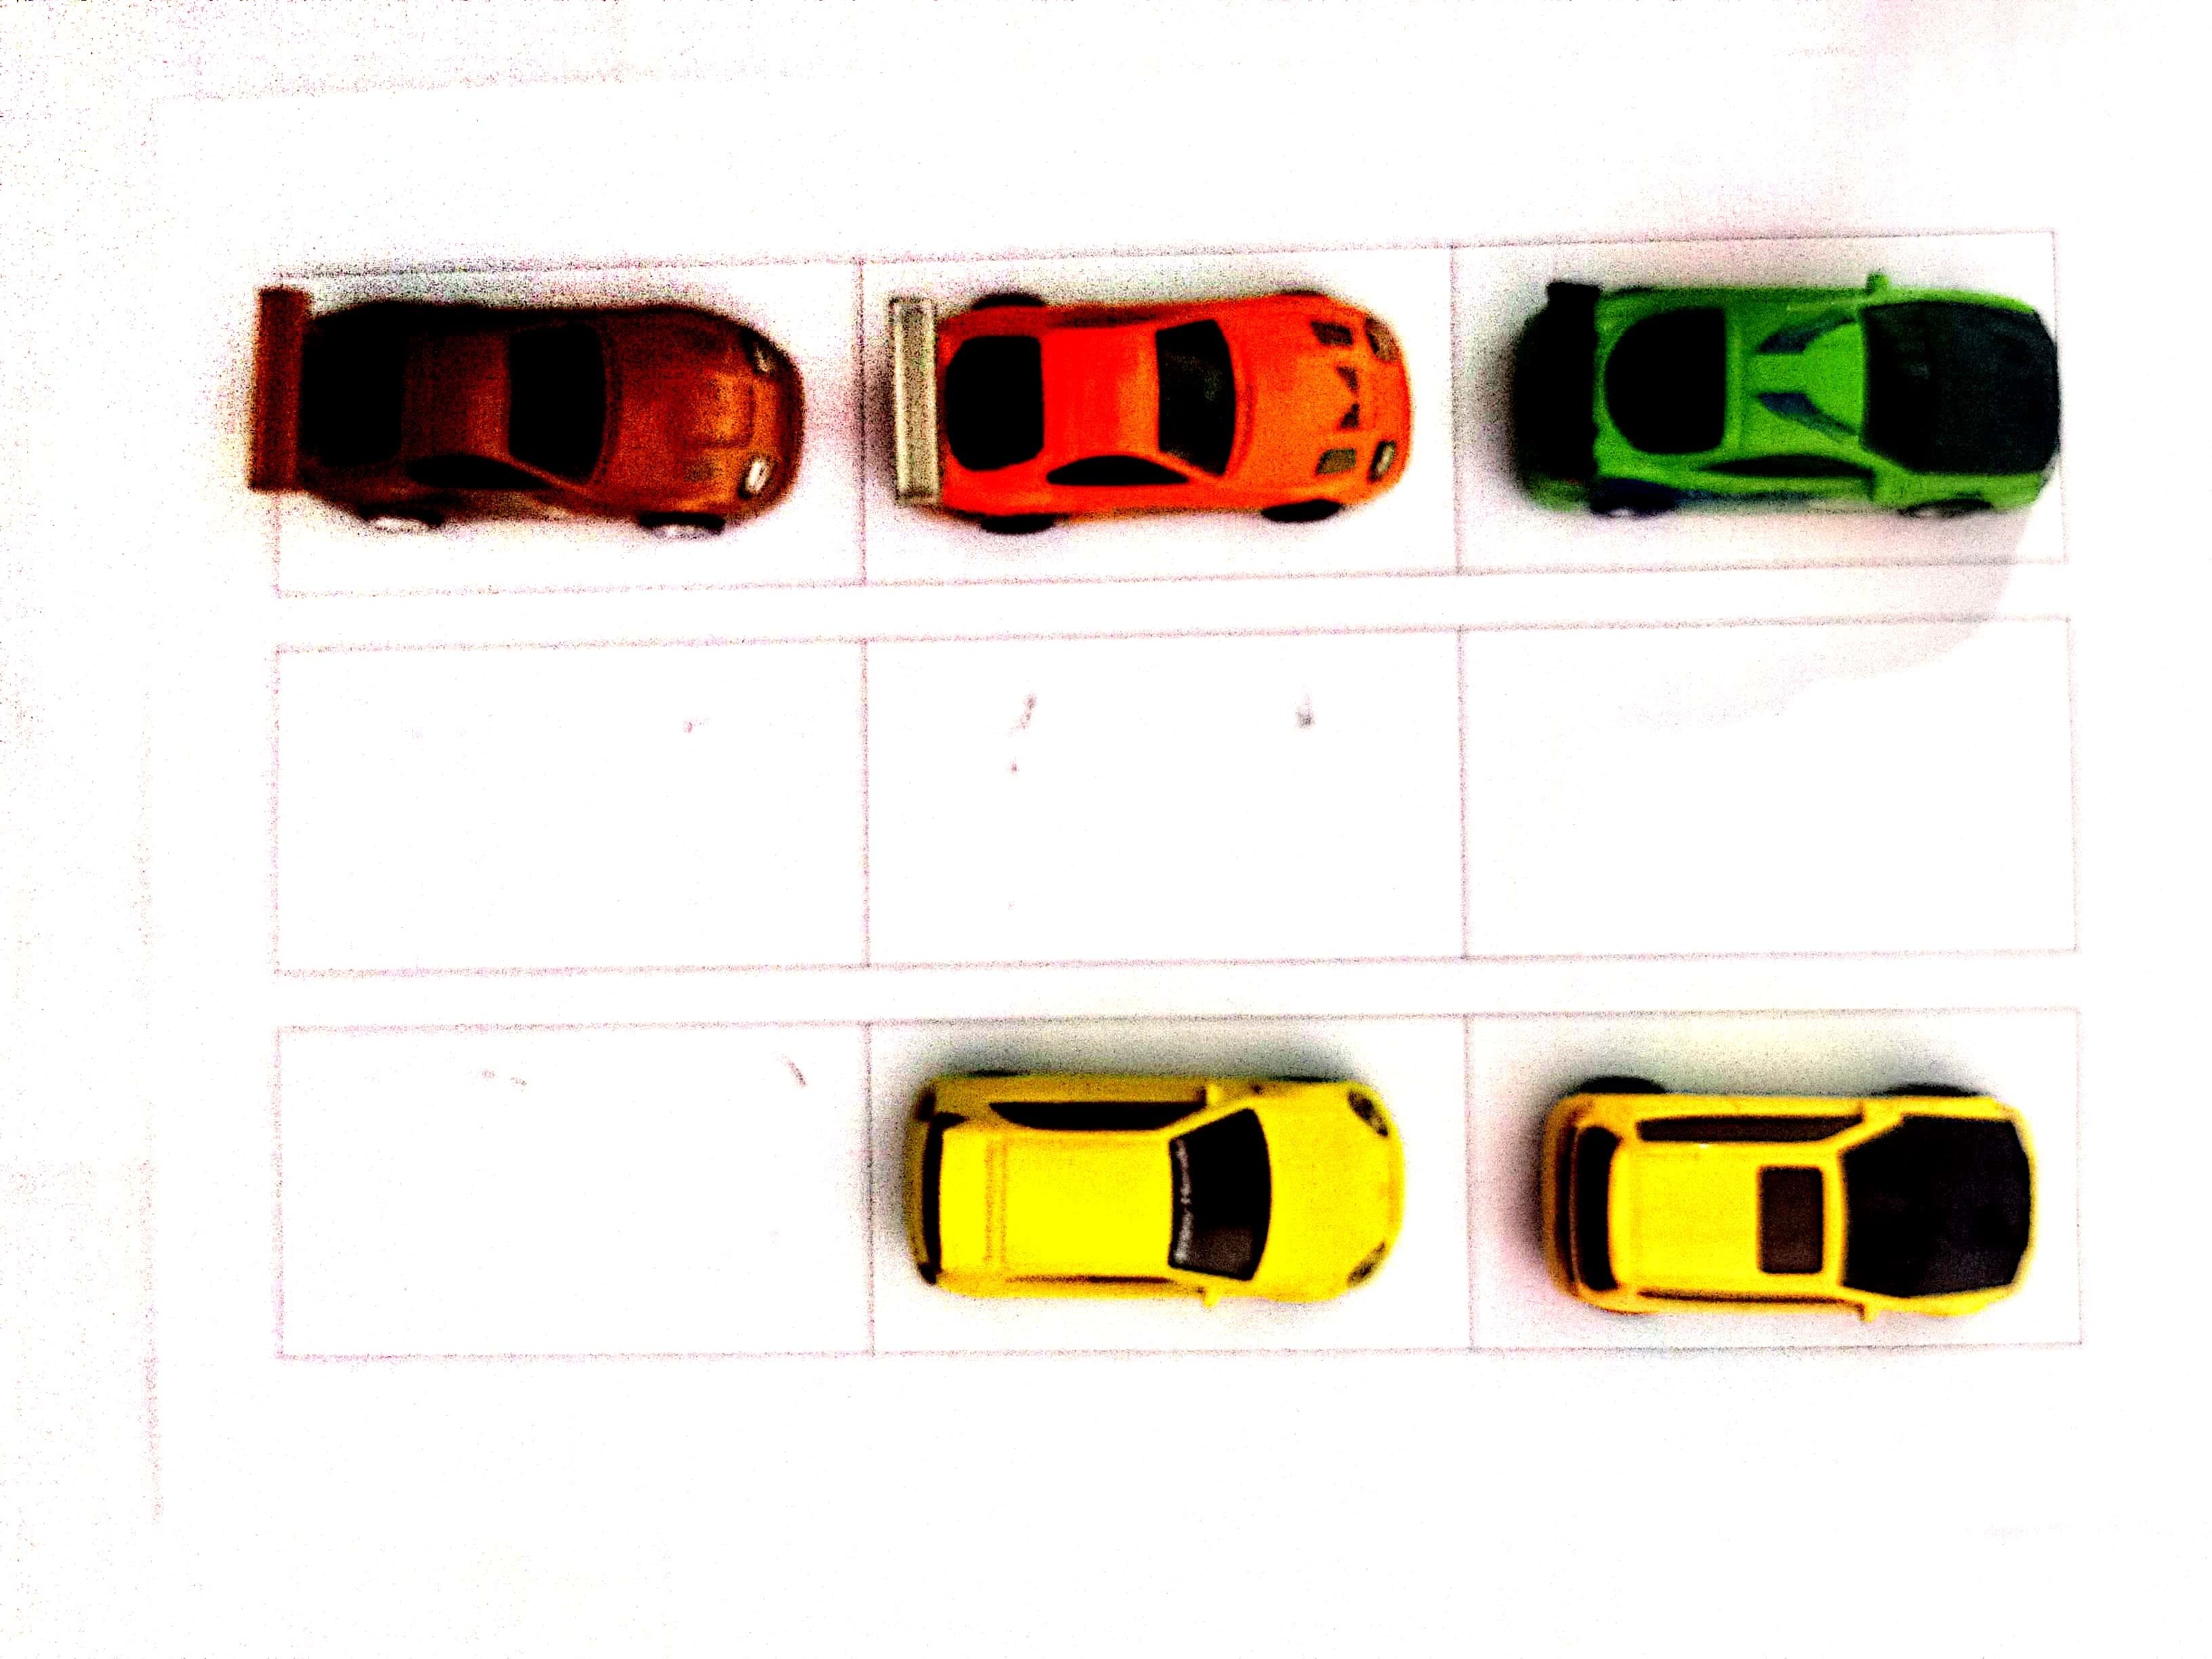Busy: (1467, 1011, 2080, 1354), (1458, 235, 2050, 568), (273, 263, 866, 594), (871, 1023, 1463, 1351), (866, 253, 1454, 580)
Free: (1467, 619, 2067, 958), (273, 648, 871, 972), (279, 1035, 871, 1358), (862, 640, 1463, 955)
